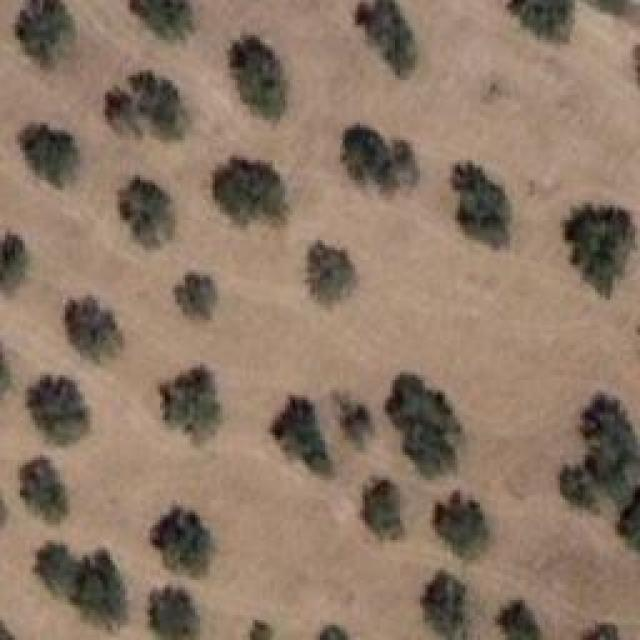Tree: (385, 372, 461, 477), (565, 205, 635, 298), (583, 392, 638, 507), (105, 73, 189, 141), (452, 163, 510, 249), (213, 158, 286, 225), (160, 365, 223, 442), (230, 35, 288, 118), (343, 128, 419, 191), (273, 395, 332, 476), (358, 2, 418, 77), (13, 0, 81, 66), (28, 375, 89, 445), (153, 507, 212, 577), (65, 295, 124, 362), (432, 490, 490, 558), (75, 552, 126, 629), (120, 175, 174, 247), (18, 125, 79, 188), (307, 240, 355, 306), (357, 473, 403, 540), (425, 570, 468, 640), (33, 537, 83, 594), (20, 460, 65, 523), (150, 587, 200, 640), (510, 0, 573, 42), (130, 0, 193, 38), (335, 393, 373, 450), (175, 273, 214, 321), (498, 600, 542, 640), (0, 232, 29, 292), (617, 485, 640, 550), (563, 468, 593, 511), (582, 625, 620, 640), (250, 620, 273, 640), (320, 625, 350, 640)
